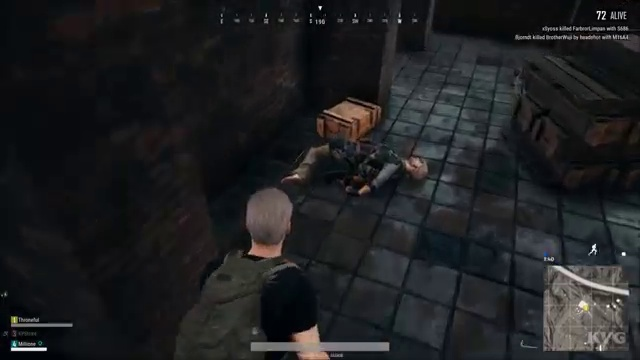Player: (189, 182, 337, 327), (285, 124, 441, 196)
